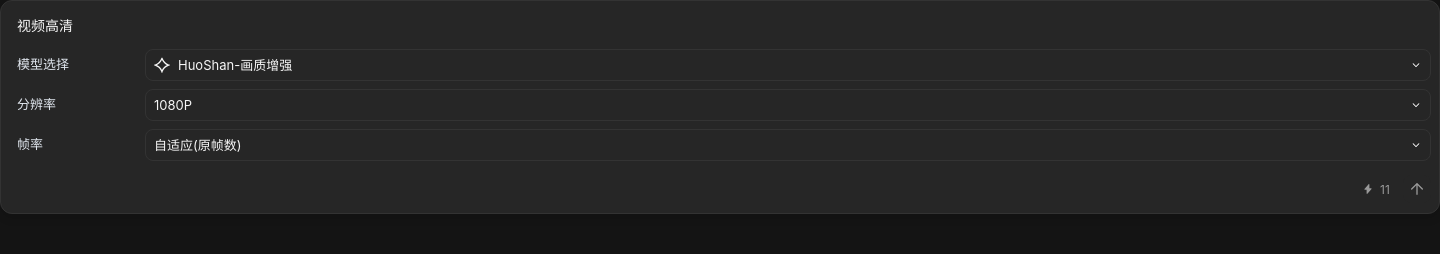
Test: VideoHDPanel › changes resolution value when menu item is clicked
Click the button with test id "hd-resolution-trigger".
click(173, 105)  # box x1=145 y1=89 x2=1431 y2=121
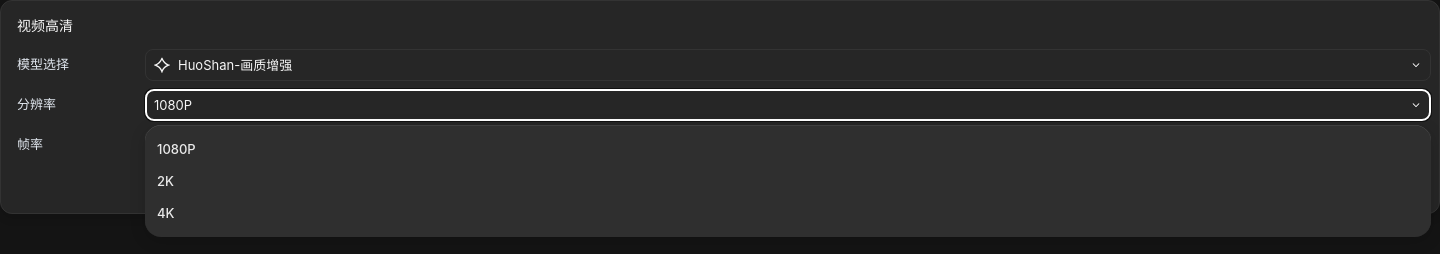
Expected: the button "4K" is shown
Click the button "4K".
click(166, 213)  # box x1=149 y1=197 x2=1427 y2=229
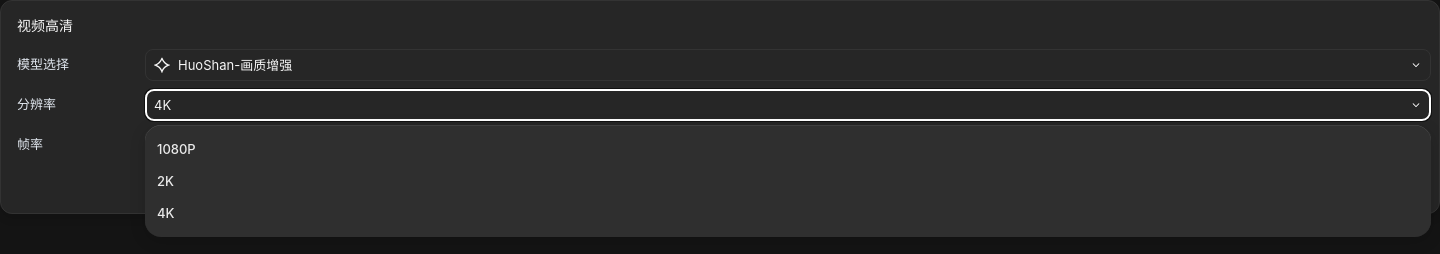
Expected: the button with test id "hd-resolution-trigger" reads "4K", x1=145 y1=89 x2=1431 y2=121
